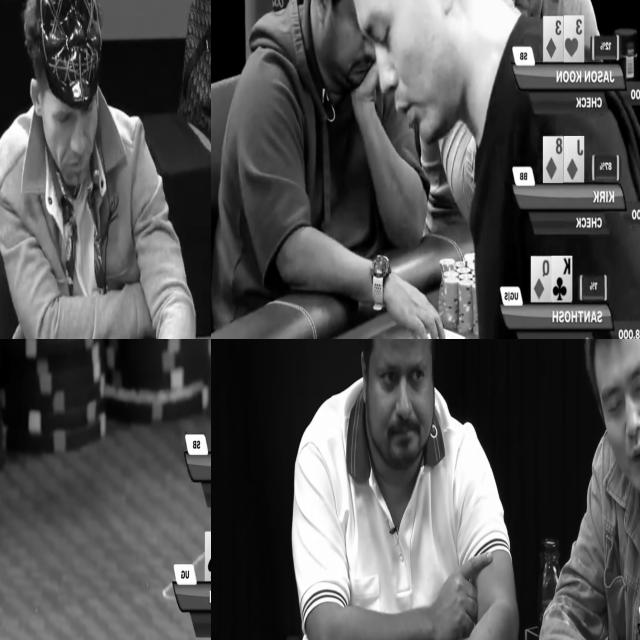3D: (543, 16, 563, 63)
3H: (564, 16, 584, 62)
8D: (543, 137, 563, 183)
JD: (563, 136, 584, 180)
KC: (551, 256, 572, 301)
QD: (531, 256, 552, 302)
QS: (206, 532, 211, 580)
